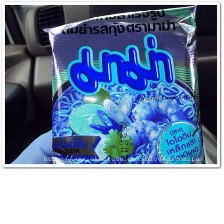snack: (35, 4, 211, 163)
